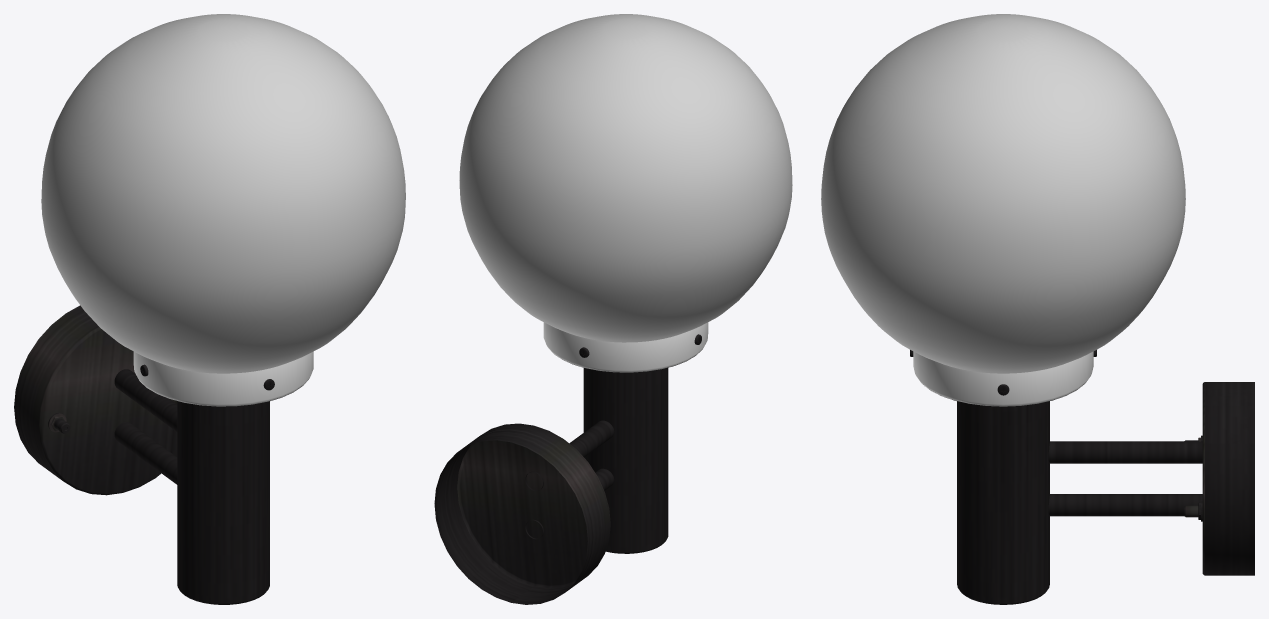
File: lamparaPared.obj
3 views of the same model, side by side, from view 1: azimuth 30°, elevation 25°; view 2: azimuth 150°, elevation 25°; view 3: azimuth 270°, elevation 25° (orthographic). The views are drawn at different scales.
Visible parts, largest first — view 1: sconce_02_Circle.006; view 2: sconce_02_Circle.006; view 3: sconce_02_Circle.006.
Boxes of the visible parts, left/top/right/bottom form: sconce_02_Circle.006: left=14, top=14, right=405, bottom=604; sconce_02_Circle.006: left=434, top=14, right=792, bottom=604; sconce_02_Circle.006: left=821, top=14, right=1254, bottom=604.
Size of the model in its own units: 0.1881 by 0.3175 by 0.2237.
